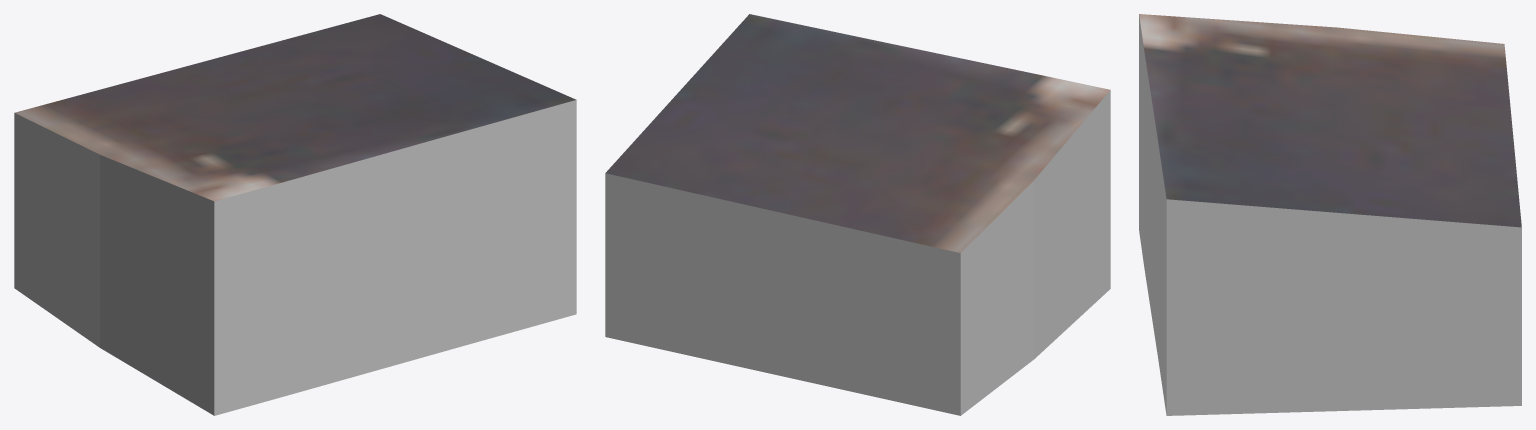
Rendered from DEBW_0010007Tx3o.gltf.
3 renders of one model, left to right at view 1: azimuth 30°, elevation 25°; view 2: azimuth 150°, elevation 25°; view 3: azimuth 270°, elevation 25°, orthographic. The views are drawn at different scales.
Parts seen in each view (by area): view 1: Z_UP; view 2: Z_UP; view 3: Z_UP.
Part boxes in pixels (x1=…): Z_UP: x1=14, y1=14, x2=576, y2=415; Z_UP: x1=605, y1=14, x2=1110, y2=415; Z_UP: x1=1139, y1=14, x2=1521, y2=415.
Size of the model in its own units: 6.38 by 3.31 by 5.3.
2 materials, 1 textured.
